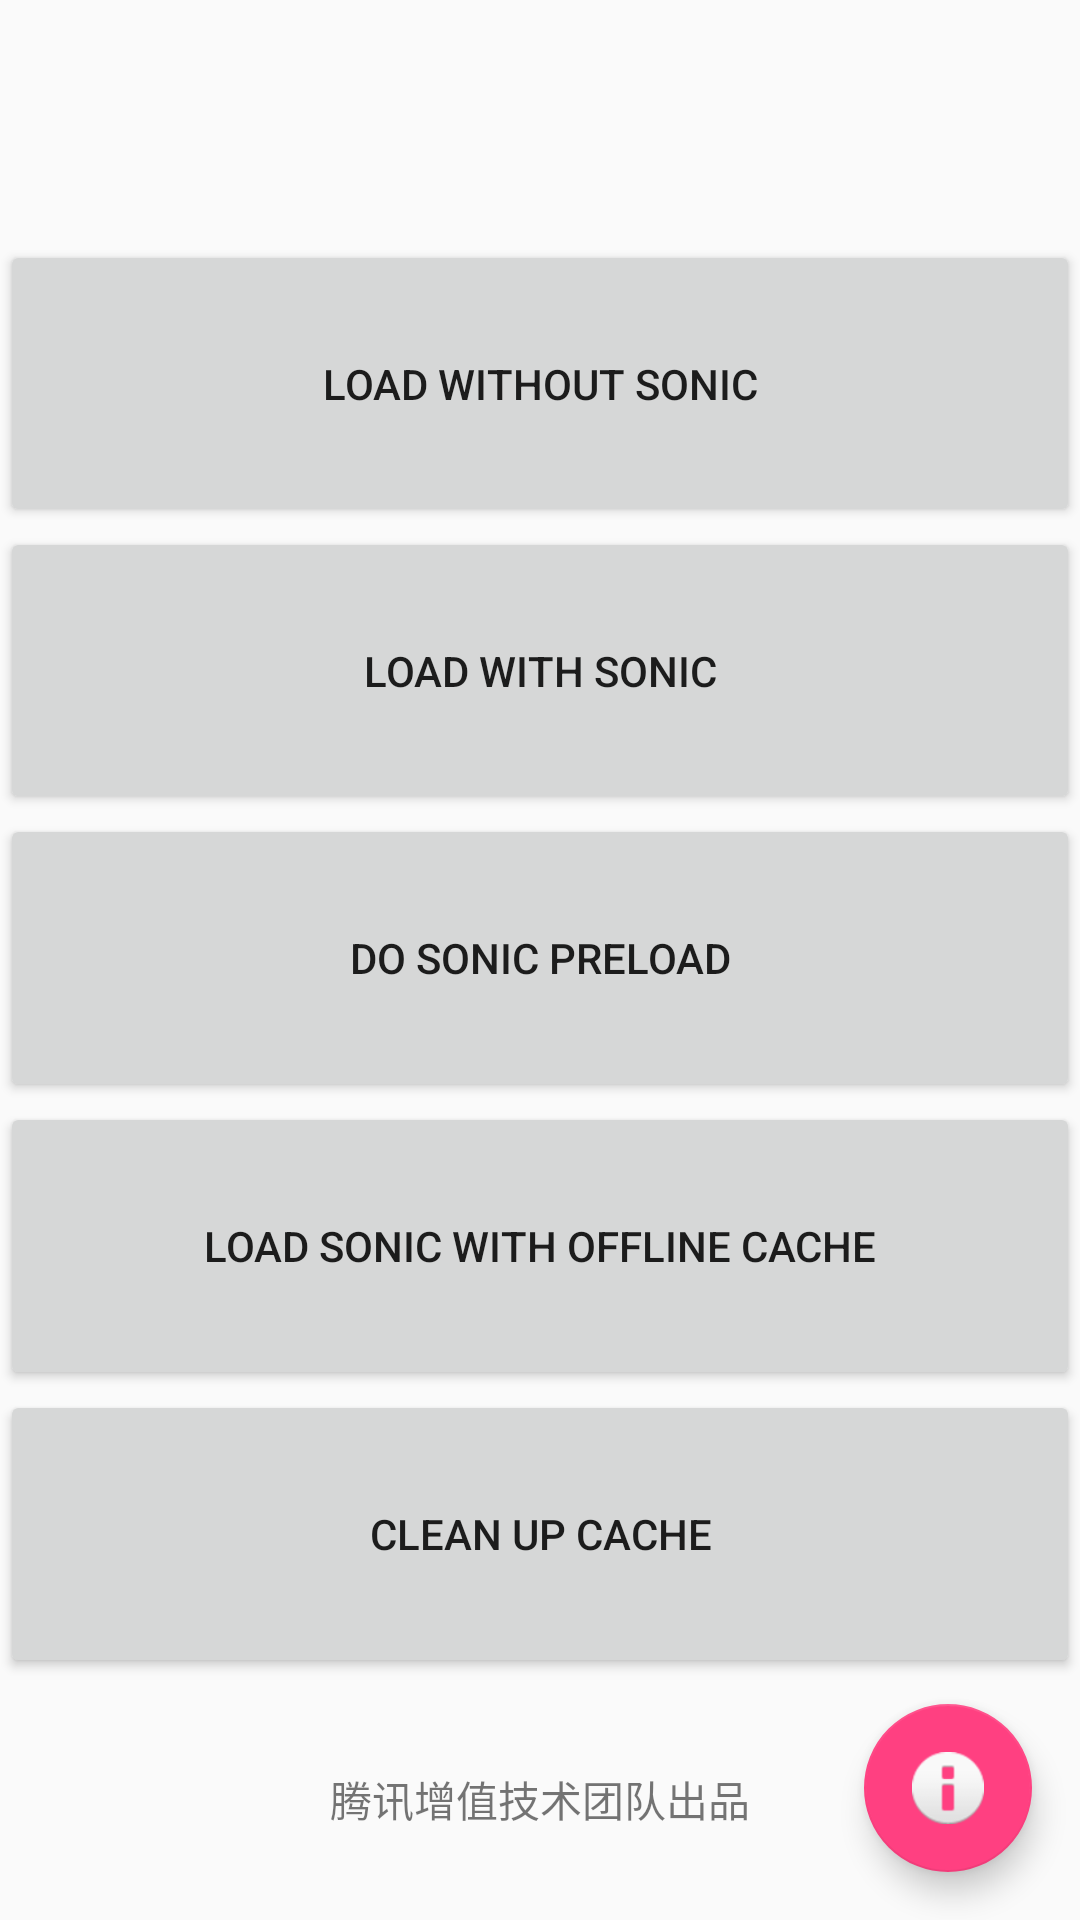

Icons on this 1080px x 1920px Android screen, each with its box as (x1, y1, x2, y2):
info: (864, 1704, 1032, 1872)
